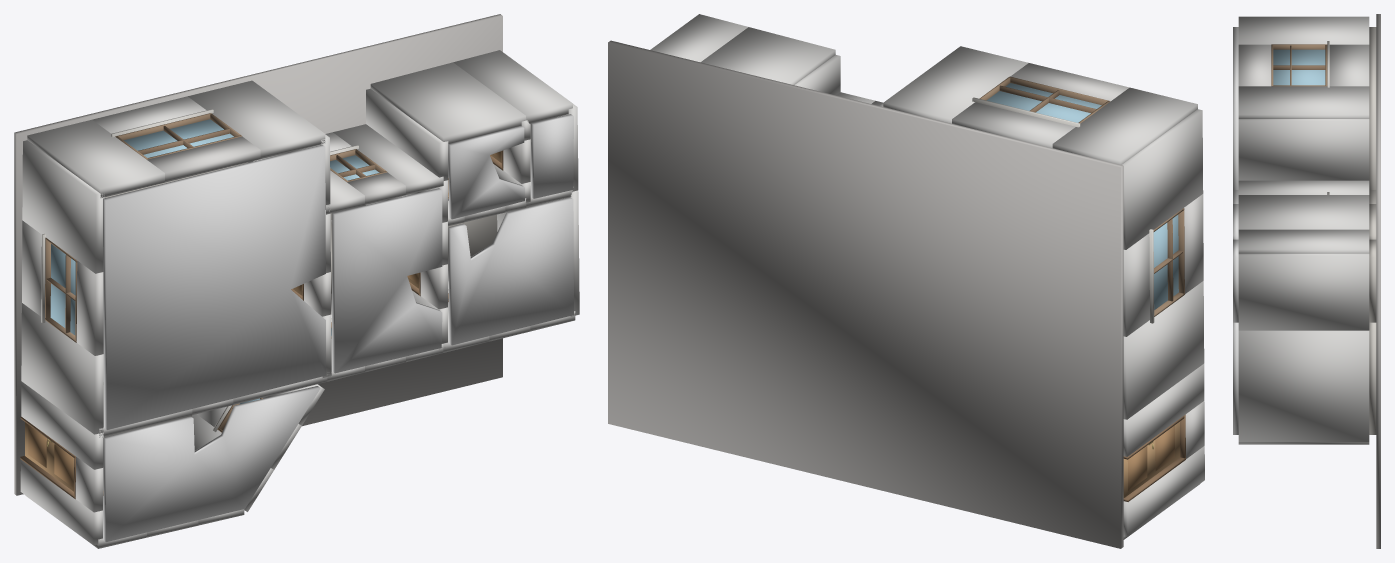
Rendered from media_1792949080170_024d0d59_scene.glb.
3 views of the same model, side by side, from view 1: azimuth 30°, elevation 25°; view 2: azimuth 150°, elevation 25°; view 3: azimuth 270°, elevation 25° (orthographic). The views are drawn at different scales.
Visible parts, largest first — view 1: Ceilings, Walls, Plinth, Lintels, WindowGlasses, WindowFrames, DoorLeaves, WindowMullions, Floors, WindowSills, DoorFrames; view 2: Plinth, Walls, Lintels, WindowGlasses, DoorLeaves, WindowFrames, WindowMullions, WindowSills, DoorFrames; view 3: Walls, Floors, Plinth, Ceilings, WindowGlasses, Lintels, WindowFrames, WindowMullions.
Part boxes in pixels (left/top/right/bottom): Ceilings: left=103, top=114, right=573, bottom=541; Walls: left=20, top=50, right=579, bottom=548; Plinth: left=14, top=14, right=502, bottom=495; Lintels: left=75, top=136, right=530, bottom=537; WindowGlasses: left=50, top=119, right=448, bottom=403; WindowFrames: left=45, top=113, right=448, bottom=495; DoorLeaves: left=25, top=151, right=501, bottom=491; WindowMullions: left=46, top=126, right=375, bottom=408; Floors: left=104, top=162, right=497, bottom=437; WindowSills: left=41, top=109, right=448, bottom=431; DoorFrames: left=20, top=150, right=503, bottom=499; Plinth: left=608, top=40, right=1123, bottom=548; Walls: left=650, top=14, right=1204, bottom=539; Lintels: left=872, top=63, right=1204, bottom=458; WindowGlasses: left=986, top=83, right=1178, bottom=309; DoorLeaves: left=1123, top=422, right=1180, bottom=497; WindowFrames: left=979, top=76, right=1184, bottom=316; WindowMullions: left=999, top=85, right=1182, bottom=301; WindowSills: left=972, top=97, right=1154, bottom=323; DoorFrames: left=1123, top=414, right=1185, bottom=501; Walls: left=1238, top=16, right=1369, bottom=444; Floors: left=1369, top=27, right=1376, bottom=434; Plinth: left=1376, top=14, right=1380, bottom=548; Ceilings: left=1233, top=27, right=1238, bottom=434; WindowGlasses: left=1273, top=49, right=1325, bottom=85; Lintels: left=1238, top=44, right=1271, bottom=86; WindowFrames: left=1271, top=44, right=1327, bottom=86; WindowMullions: left=1273, top=45, right=1325, bottom=85.
Bounding box in the file's own units: 10.79 × 7.74 × 3.17.
